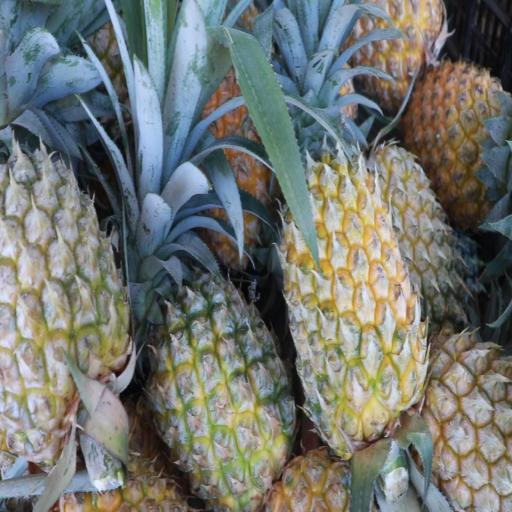------------------------------: (0, 151, 127, 447)
Pineapple - v8 v1: (284, 157, 422, 445), (155, 278, 291, 505), (410, 62, 512, 202), (354, 0, 445, 96)
